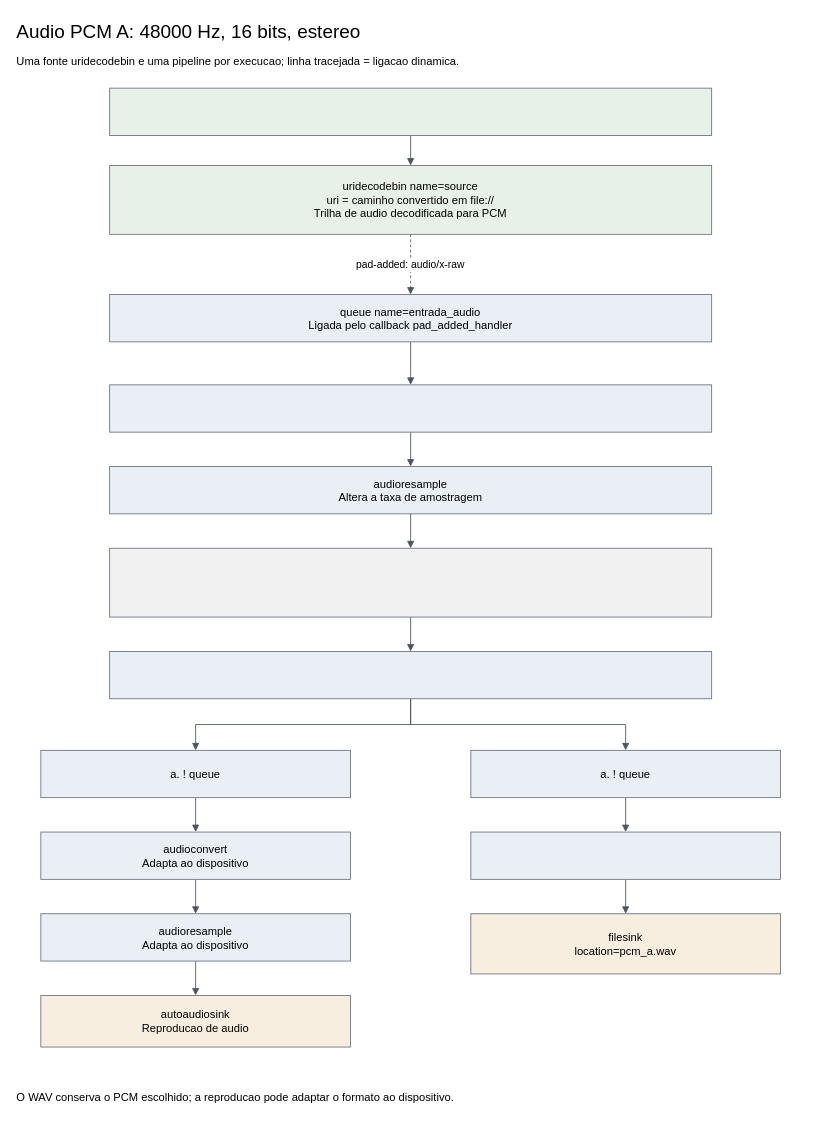
The diagram is 820 pixels wide and 1121 high, and some of its shapes have lost their labels. Each missing label, with the centre of its shape:
audio/x-raw format=S16LE | rate=48000 | channels=2 layout=interleaved: pixel 410 582
audioconvert Altera representacao, profundidade e canais: pixel 410 408
Mesmo arquivo local com video e audio Caminho passado em argv[1]: pixel 410 111
tee name=a Mesmo PCM para reproducao e WAV: pixel 410 675
wavenc PCM sem compressao em WAV: pixel 625 855
